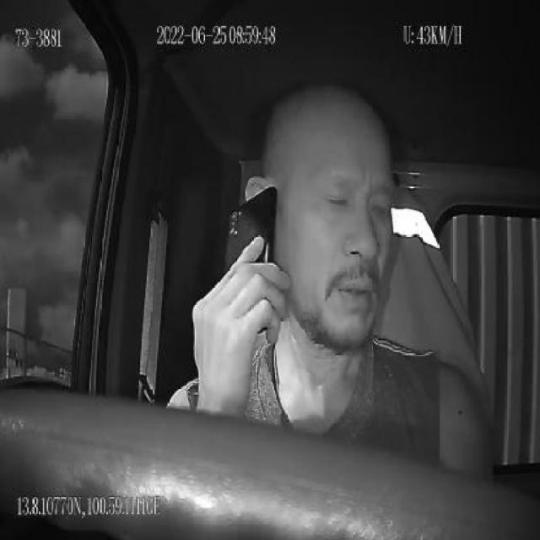phone: (222, 185, 278, 323)
